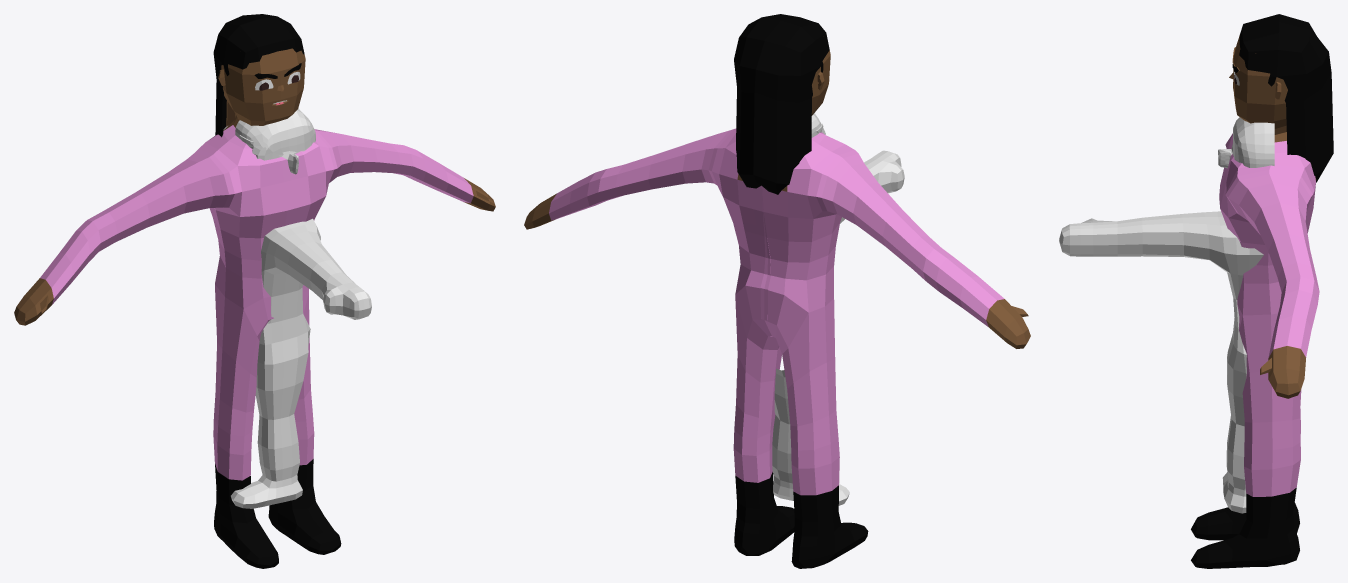
3 views of the same model, side by side, from view 1: azimuth 30°, elevation 25°; view 2: azimuth 150°, elevation 25°; view 3: azimuth 270°, elevation 25° (orthographic). The views are drawn at different scales.
Parts seen in each view (by area): view 1: superspy2, Cube; view 2: superspy2, Cube; view 3: superspy2, Cube.
Part boxes in pixels (x1,y1,x2,y2): superspy2: (14, 14, 495, 568); Cube: (231, 108, 371, 508); superspy2: (524, 14, 1030, 568); Cube: (772, 113, 904, 505); superspy2: (1191, 14, 1333, 568); Cube: (1059, 117, 1274, 513).
Size of the model in its own units: 11.23 by 11.58 by 5.45.
